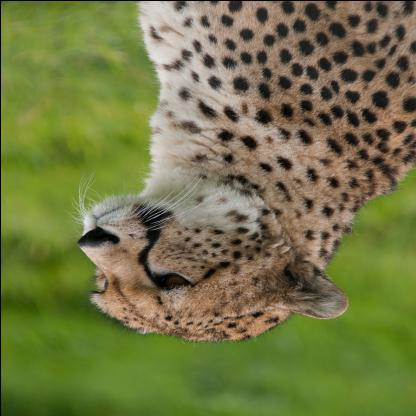leopard: (70, 182, 344, 350)
